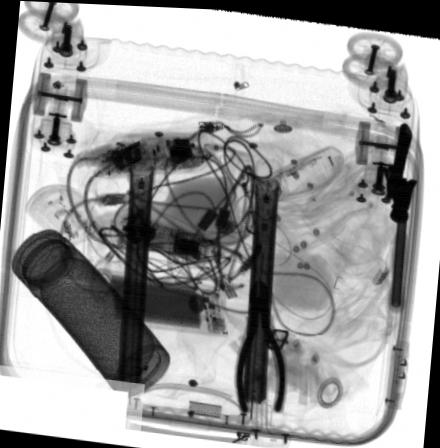Hammer: (387, 171, 418, 307)
Pliers: (234, 275, 284, 413)
Powerbank: (94, 267, 226, 335)
Wrench: (385, 118, 411, 195)
